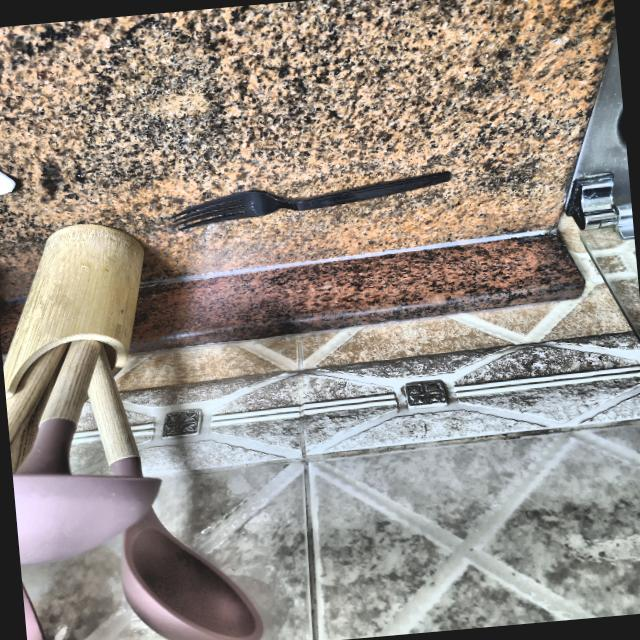plastic utensil: (164, 161, 456, 238)
